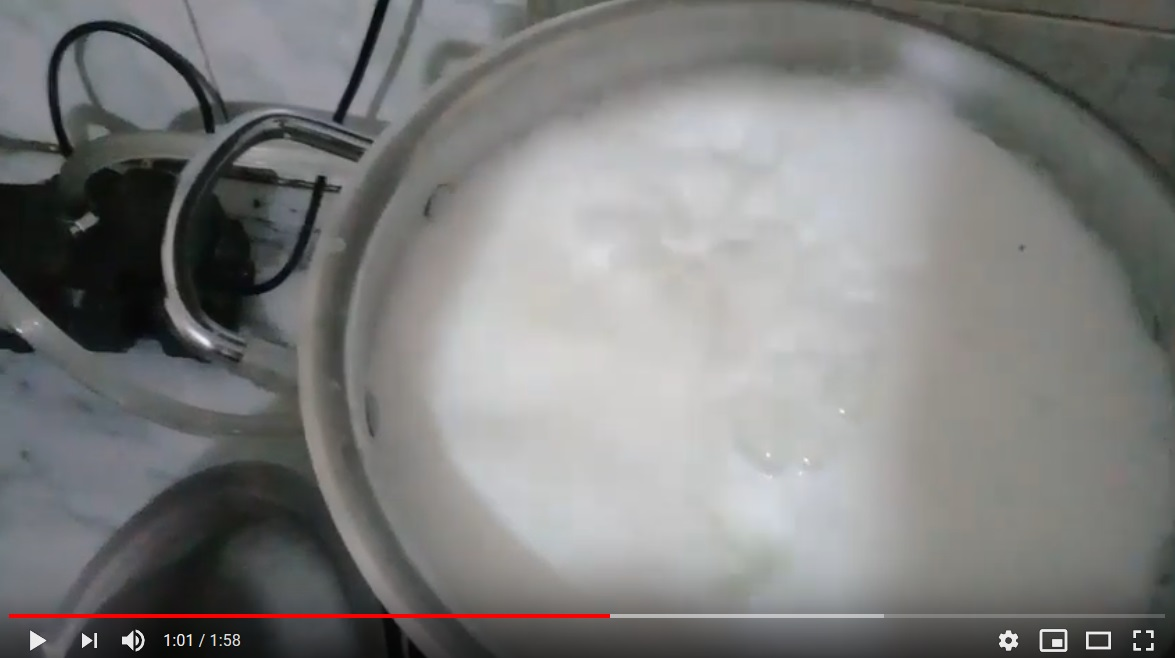Steaming: (204, 5, 1167, 612)
